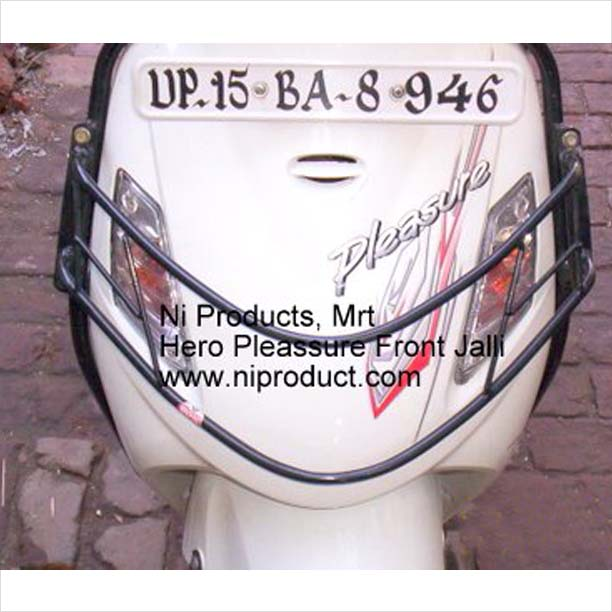number_plate: (131, 54, 527, 132)
